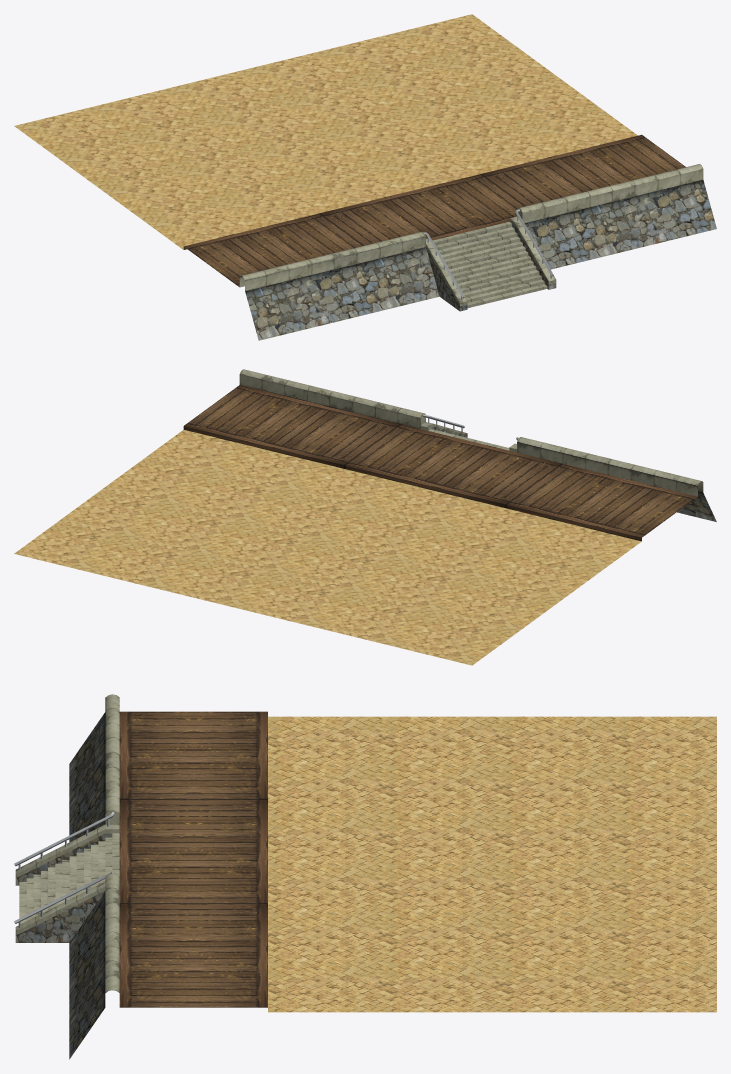
File: Dock_Stair_NoSand.FBX
The picture shows the model from 3 angles, top to bottom: view 1: azimuth 30°, elevation 25°; view 2: azimuth 150°, elevation 25°; view 3: azimuth 270°, elevation 25°; orthographic projection. The views are drawn at different scales.
Visible parts, largest first — view 1: Dock_Stair_NoSand; view 2: Dock_Stair_NoSand; view 3: Dock_Stair_NoSand.
Boxes of the visible parts, x1,y1,x2,y2 form: Dock_Stair_NoSand: [14, 14, 716, 340]; Dock_Stair_NoSand: [14, 369, 716, 665]; Dock_Stair_NoSand: [14, 694, 716, 1059].
Bounding box in the file's own units: 28.88 × 29 × 3.16.
